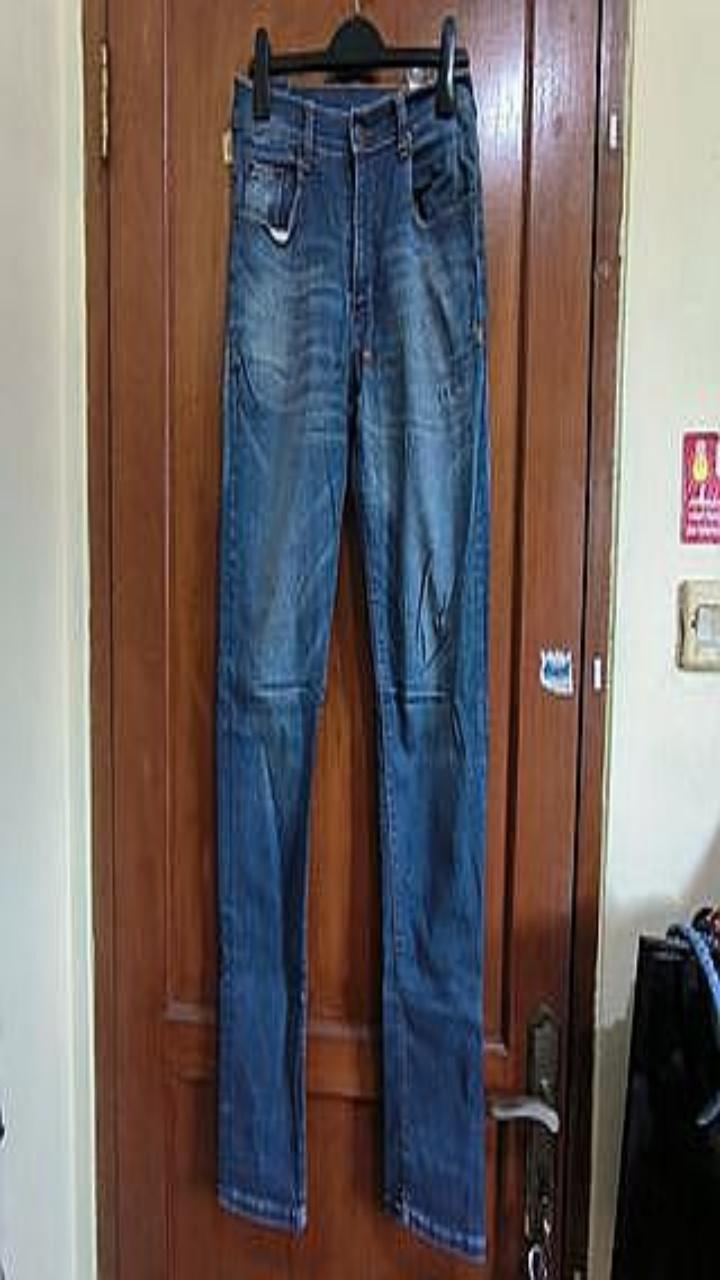Jeans: (216, 78, 488, 1257)
